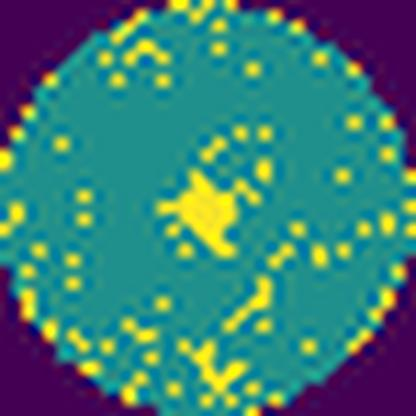Center: (178, 187, 238, 255)
